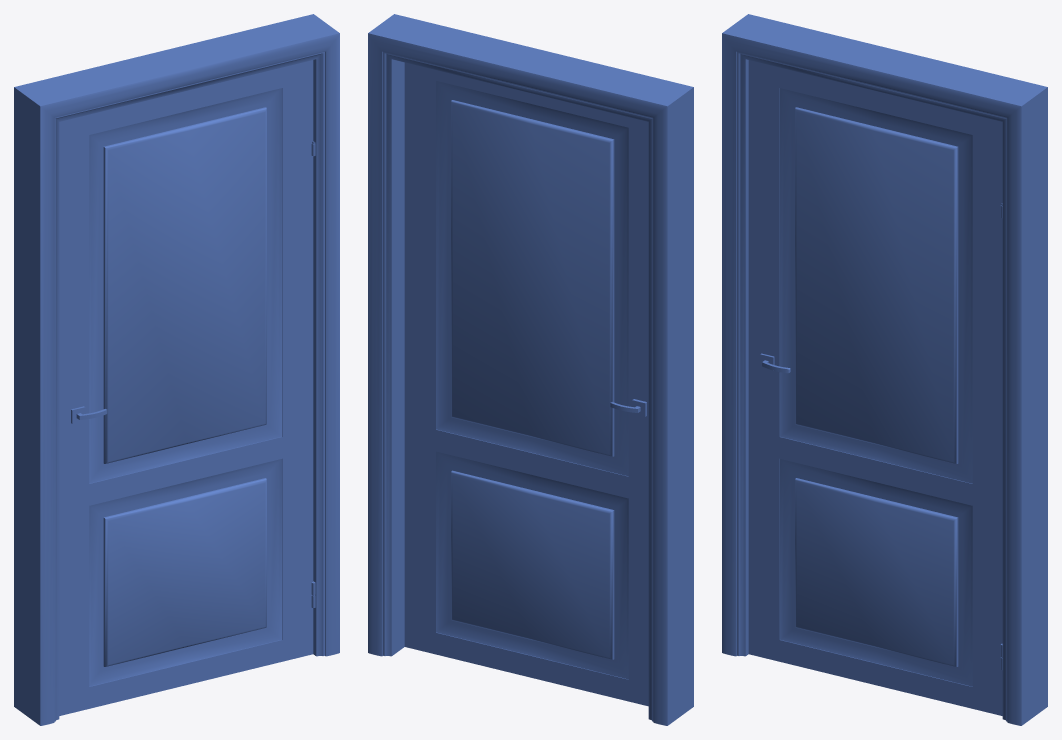
File: Room_Door.fbx
The picture shows the model from 3 angles, left to right: view 1: azimuth 30°, elevation 25°; view 2: azimuth 150°, elevation 25°; view 3: azimuth 330°, elevation 25°; orthographic projection.
Visible parts, largest first — view 1: SM_Room_Door, SM_Room_Door_Frame; view 2: SM_Room_Door, SM_Room_Door_Frame; view 3: SM_Room_Door, SM_Room_Door_Frame.
Part boxes in pixels (<box>): SM_Room_Door: <box>59,60,315,715</box>; SM_Room_Door_Frame: <box>14,14,339,725</box>; SM_Room_Door: <box>404,62,648,706</box>; SM_Room_Door_Frame: <box>368,14,693,725</box>; SM_Room_Door: <box>748,60,1002,715</box>; SM_Room_Door_Frame: <box>722,14,1047,725</box>.
Size of the model in its own units: 105 by 208 by 16.94.
